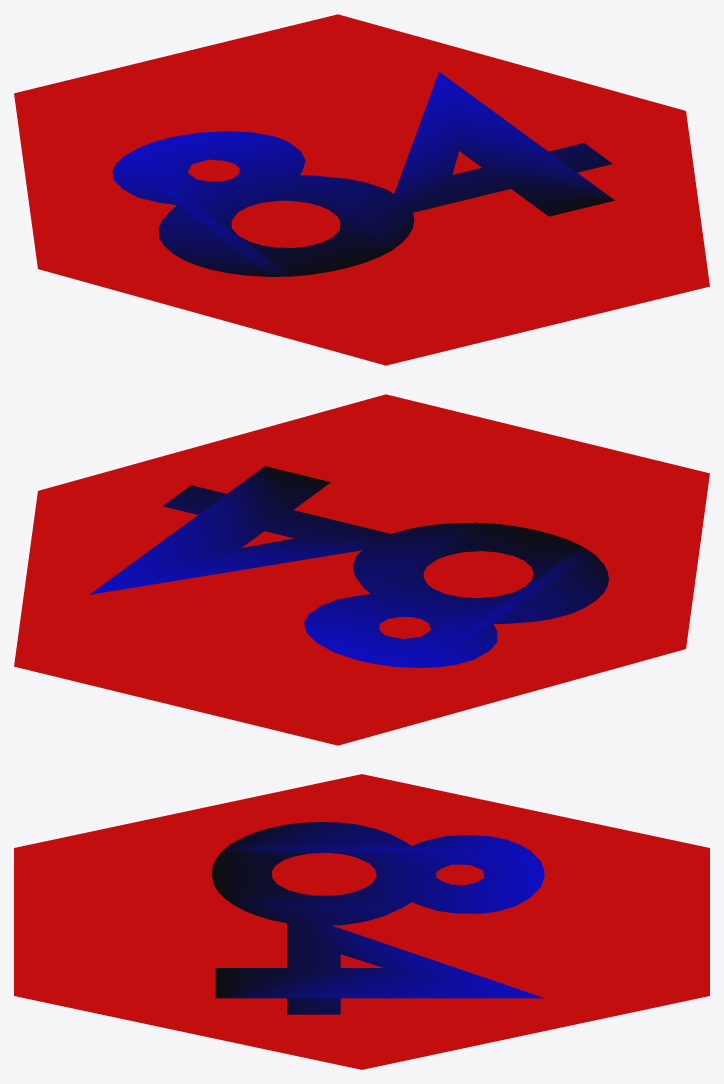
The model's file is SM_Number_84.fbx.
The picture shows the model from 3 angles, top to bottom: view 1: azimuth 30°, elevation 25°; view 2: azimuth 150°, elevation 25°; view 3: azimuth 270°, elevation 25°; orthographic projection. The views are drawn at different scales.
Visible parts, largest first — view 1: FBX_OUT; view 2: FBX_OUT; view 3: FBX_OUT.
Boxes of the visible parts, left/top/right/bottom form: FBX_OUT: left=14, top=14, right=709, bottom=365; FBX_OUT: left=14, top=394, right=709, bottom=745; FBX_OUT: left=14, top=774, right=709, bottom=1069.
Bounding box in the file's own units: 50 × 0.2917 × 49.71.
